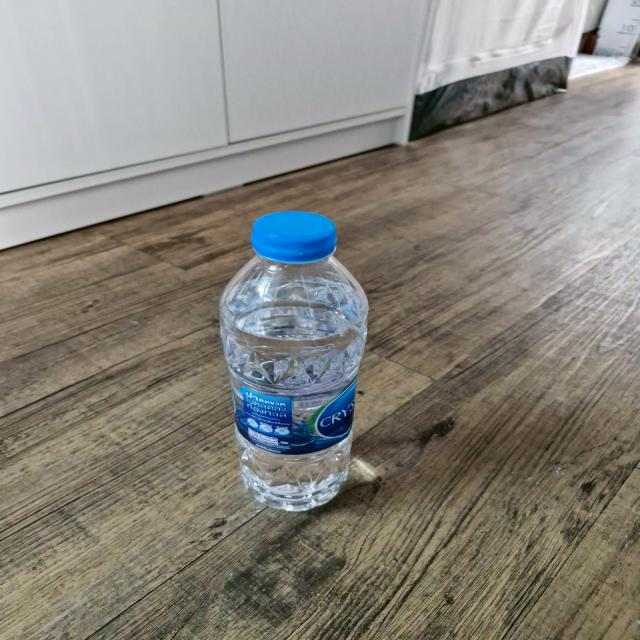plastic bottle: (210, 214, 372, 510)
